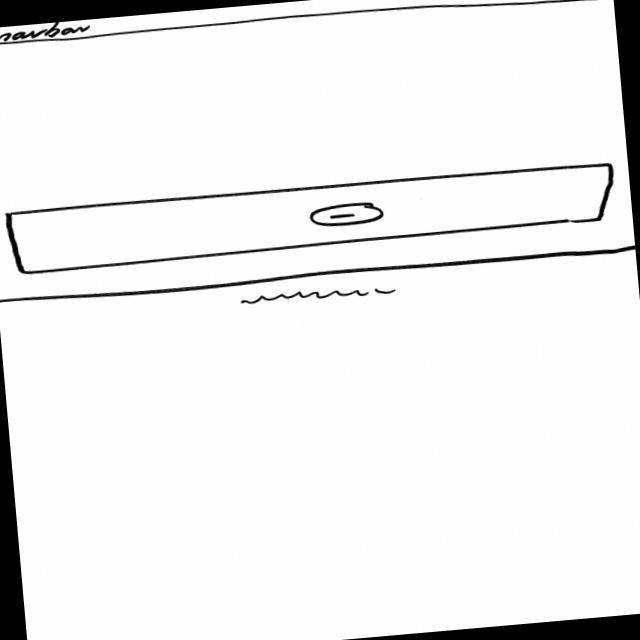container: (4, 157, 620, 278), (1, 1, 614, 57)
icon-button: (310, 202, 387, 230)
label: (1, 19, 95, 42)
text: (231, 283, 403, 311)
